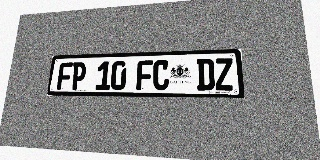0: (110, 61, 127, 90)
1: (95, 61, 112, 90)
C: (153, 60, 169, 90)
D: (197, 58, 215, 91)
F: (136, 60, 153, 90), (57, 62, 73, 90)
P: (70, 62, 87, 90)
Z: (214, 58, 234, 91)
